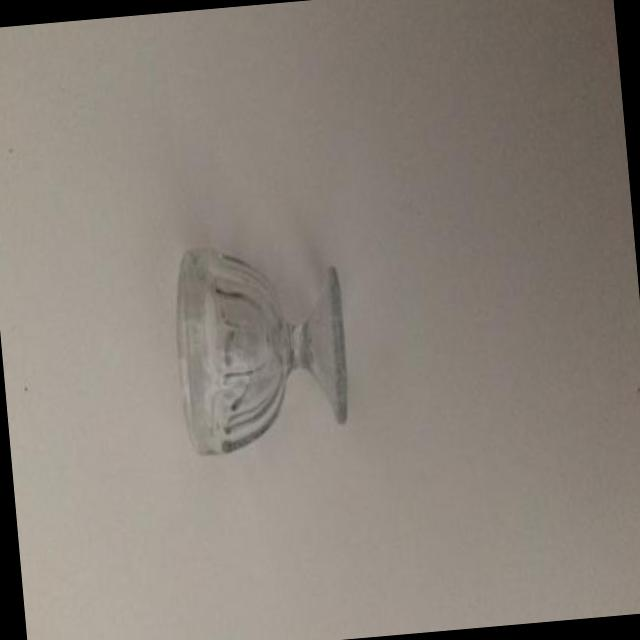chai_thuy_tinh: (173, 245, 348, 456)
